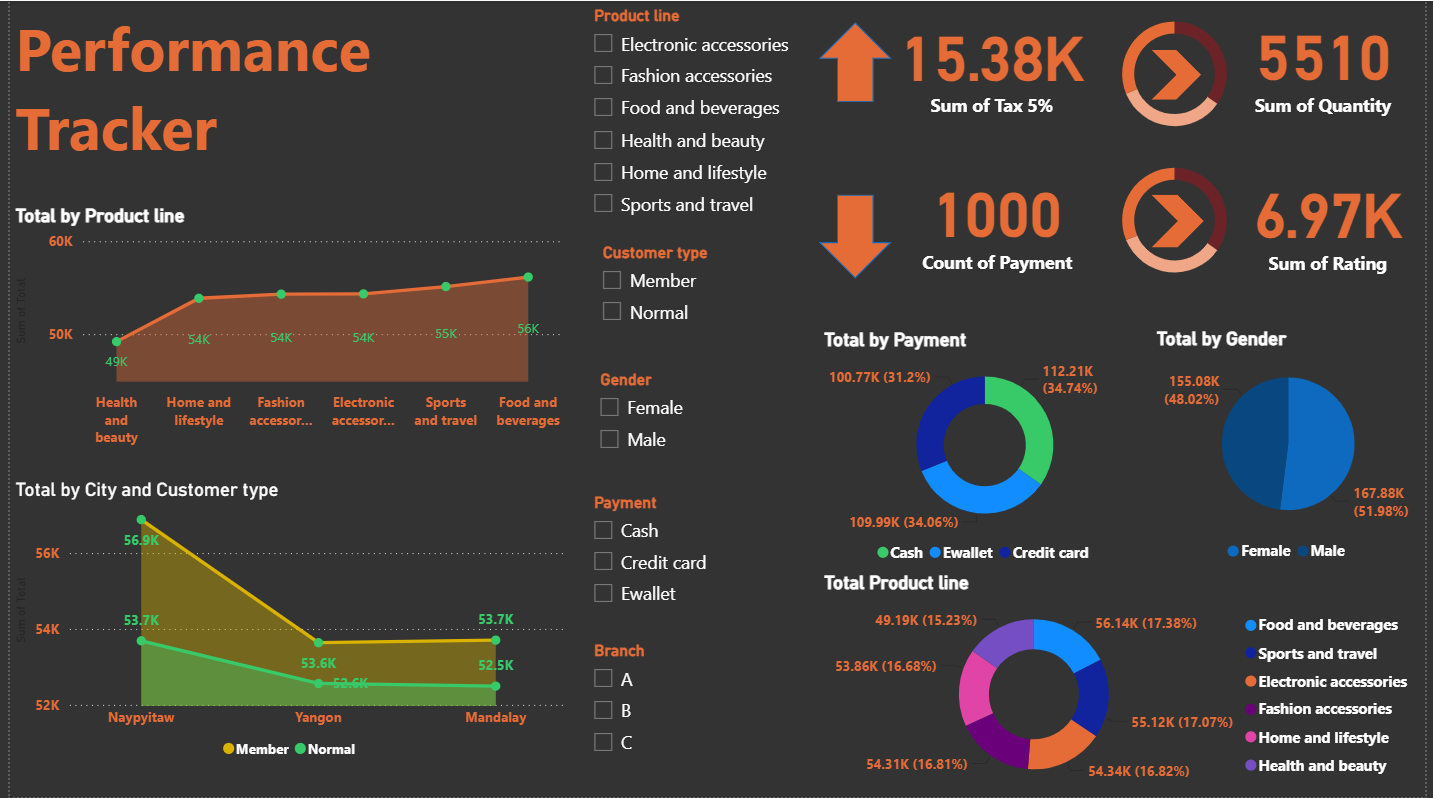

Layout of this report page (visuals, bound fields, positions):
{"tool":"powerbi","page":{"name":"Page 1","canvas":[1280,720],"ordinal":0},"visuals":[{"type":"card","fields":{"Values":["Sum(D6.Tax 5%)"]},"box":[797.3,1.2,182.2,110.1],"z":0},{"type":"card","fields":{"Values":["Sum(D6.Quantity)"]},"box":[1098.1,1.2,179.8,108.8],"z":1000},{"type":"card","fields":{"Values":["CountNonNull(D6.Payment)"]},"box":[797.3,144.3,192,106.4],"z":2000},{"type":"card","fields":{"Values":["Sum(D6.Rating)"]},"box":[1103,144.3,177.3,107.6],"z":3000},{"type":"donutChart","title":"Total by Payment","fields":{"Category":["D6.Payment"],"Y":["Sum(D6.Total)"]},"box":[731.3,295.9,300.8,221.3],"z":4000},{"type":"pieChart","title":"Total by Gender","fields":{"Category":["D6.Gender"],"Y":["Sum(D6.Total)"]},"box":[1032.1,294.7,248.2,221.3],"z":5000},{"type":"donutChart","title":" Total Product line","fields":{"Category":["D6.Product line"],"Y":["Sum(D6.Total)"]},"box":[731.3,516,546.6,204.2],"z":6000},{"type":"stackedAreaChart","title":"Total by Product line","fields":{"Category":["D6.Product line"],"Y":["Sum(D6.Total)"]},"box":[0,184.6,508.7,226.2],"z":7000},{"type":"areaChart","title":"Total by City and Customer type","fields":{"Category":["D6.City"],"Y":["Sum(D6.Total)"],"Series":["D6.Customer type"]},"box":[0,431.7,508.7,262.9],"z":8000},{"type":"shape","box":[731.3,19.6,66,72.1],"z":9000},{"type":"shape","box":[731.3,174.9,66,75.8],"z":10000},{"type":"shape","box":[1032.1,44,45.2,45.2],"z":11000},{"type":"donutChart","fields":{"Category":["D6.Payment"],"Y":["Sum(D6.Total)"]},"box":[989.3,0,128.4,132.1],"z":12000},{"type":"donutChart","fields":{"Category":["D6.Payment"],"Y":["Sum(D6.Total)"]},"box":[989.3,130.8,128.4,134.5],"z":13000},{"type":"shape","box":[1032.1,174.9,47.7,47.7],"z":14000},{"type":"slicer","fields":{"Values":["D6.Product line"]},"box":[516,0,207.9,211.6],"z":15000},{"type":"textbox","box":[0,1.2,439,173.6],"z":16000},{"type":"slicer","fields":{"Values":["D6.Customer type"]},"box":[523.4,214,193.2,101.5],"z":17000},{"type":"slicer","fields":{"Values":["D6.Payment"]},"box":[516,440.2,207.9,123.5],"z":18000},{"type":"slicer","fields":{"Values":["D6.Branch"]},"box":[516,574.7,193.2,135.7],"z":19000},{"type":"slicer","fields":{"Values":["D6.Gender"]},"box":[520.9,328.9,198.1,91.7],"z":20000}]}

Visuals, with their boxes in screenshot pixels (x1, y1, x2, y2), scaled from the page's 1280x720 canvas onto the 1433x798 screenshot:
card - Sum(D6.Tax 5%): region(893, 1, 1097, 123)
card - Sum(D6.Quantity): region(1229, 1, 1431, 122)
card - CountNonNull(D6.Payment): region(893, 160, 1108, 278)
card - Sum(D6.Rating): region(1235, 160, 1432, 279)
"Total by Payment" donutChart: region(819, 328, 1155, 573)
"Total by Gender" pieChart: region(1155, 327, 1432, 572)
" Total Product line" donutChart: region(819, 572, 1431, 797)
"Total by Product line" stackedAreaChart: region(0, 205, 570, 455)
"Total by City and Customer type" areaChart: region(0, 478, 570, 770)
shape: region(819, 22, 893, 102)
shape: region(819, 194, 893, 278)
shape: region(1155, 49, 1206, 99)
donutChart - D6.Payment x Sum(D6.Total): region(1108, 0, 1251, 146)
donutChart - D6.Payment x Sum(D6.Total): region(1108, 145, 1251, 294)
shape: region(1155, 194, 1209, 247)
slicer - D6.Product line: region(578, 0, 810, 235)
textbox: region(0, 1, 491, 194)
slicer - D6.Customer type: region(586, 237, 802, 350)
slicer - D6.Payment: region(578, 488, 810, 625)
slicer - D6.Branch: region(578, 637, 794, 787)
slicer - D6.Gender: region(583, 365, 805, 466)
